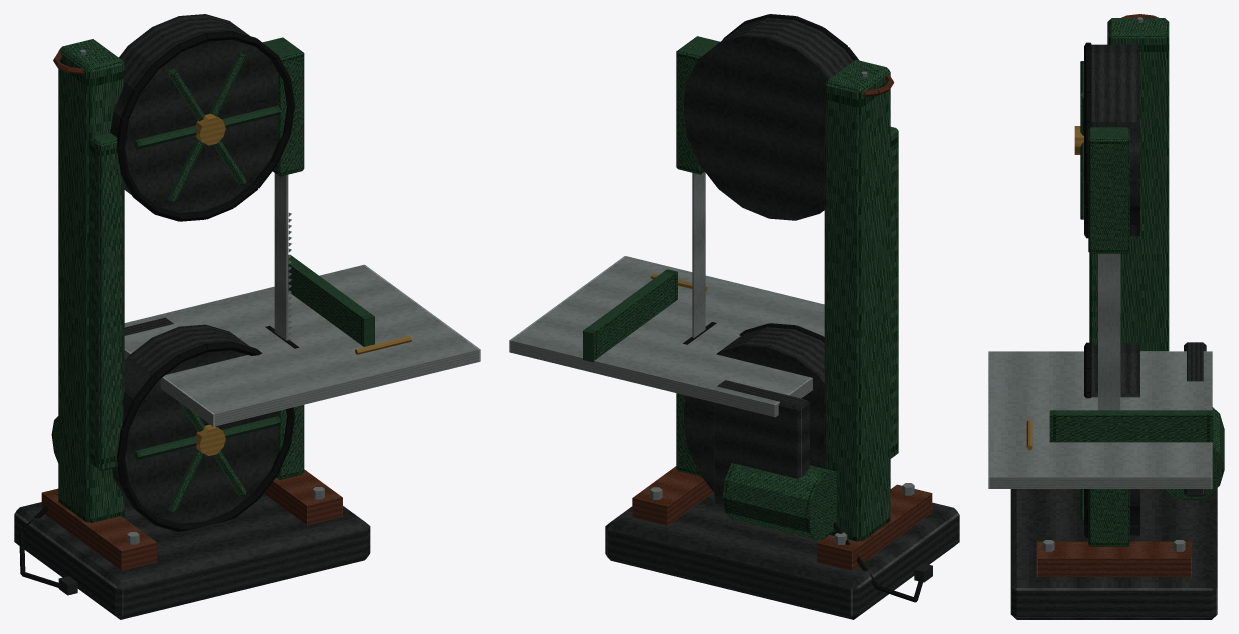
The model's file is level_work_bandsaw.glb.
3 views of the same model, side by side, from view 1: azimuth 30°, elevation 25°; view 2: azimuth 150°, elevation 25°; view 3: azimuth 270°, elevation 25° (orthographic). The views are drawn at different scales.
Visible parts, largest first — view 1: level_work_bandsaw; view 2: level_work_bandsaw; view 3: level_work_bandsaw.
Part boxes in pixels (bbox=[...]): level_work_bandsaw: bbox=[14, 14, 480, 619]; level_work_bandsaw: bbox=[509, 14, 959, 619]; level_work_bandsaw: bbox=[988, 14, 1224, 619].
Size of the model in its own units: 2.44 by 3.27 by 1.37.
6 materials, 6 textured.
